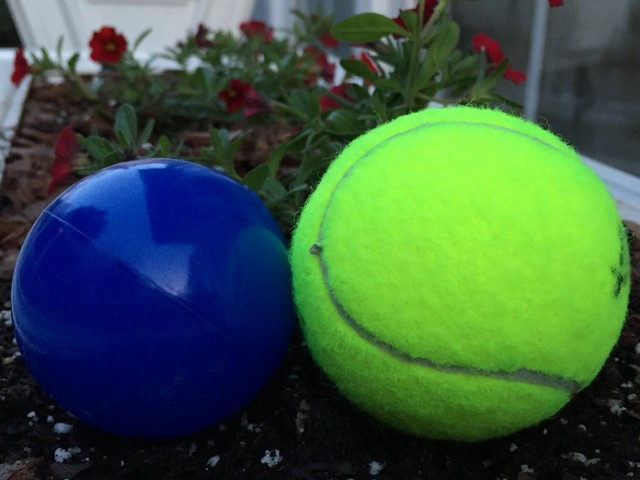ball: (11, 156, 296, 437)
